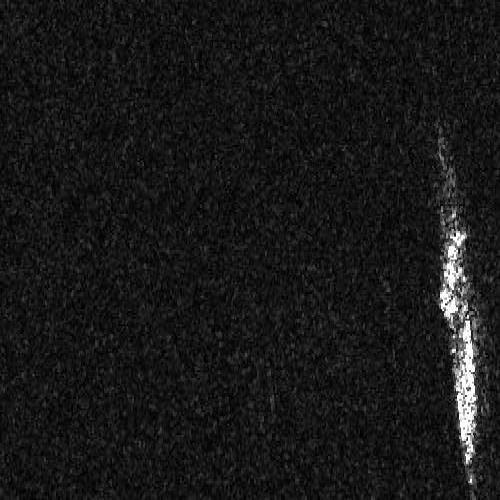ship: (438, 192, 479, 486)
